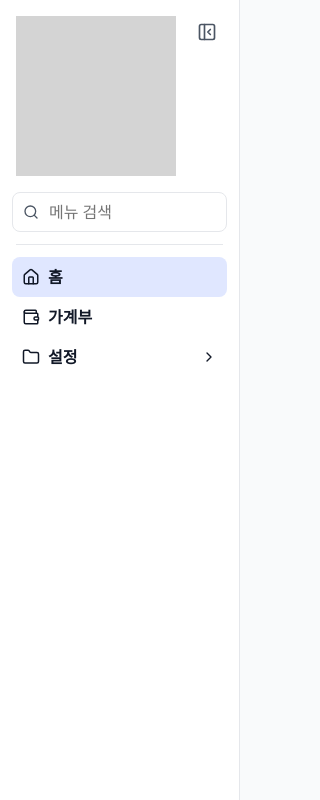
Test case: Sidebar › opens a group menu on click
Click the button "설정" at (120, 357), box [12,337,227,377]
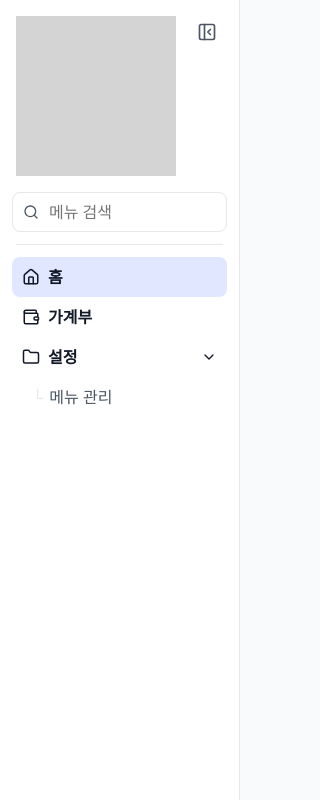
Expected: the link "└ 메뉴 관리" is shown, [32,386,112,408]
